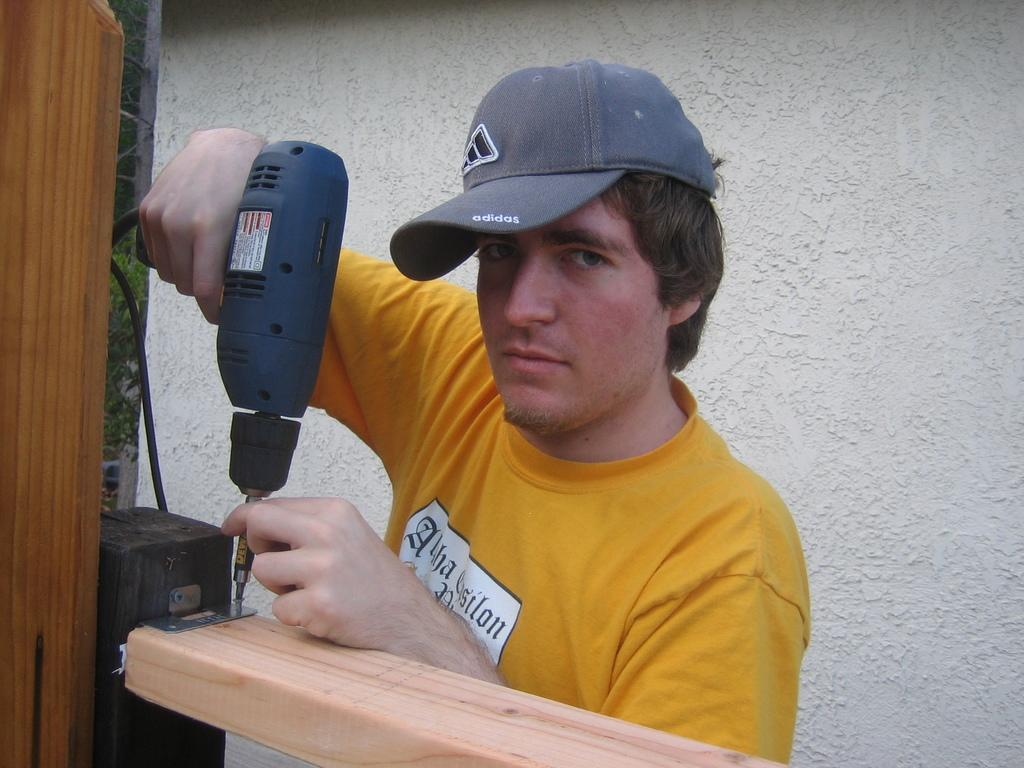Hat: (386, 57, 720, 286)
